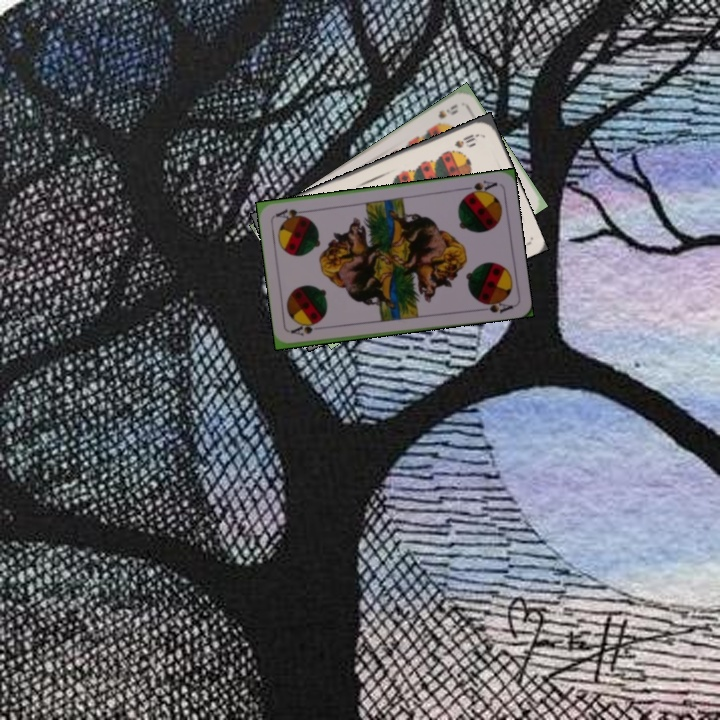S10: (451, 130, 482, 151)
S9: (434, 100, 460, 121)
SA: (459, 176, 500, 198), (288, 320, 321, 338)
